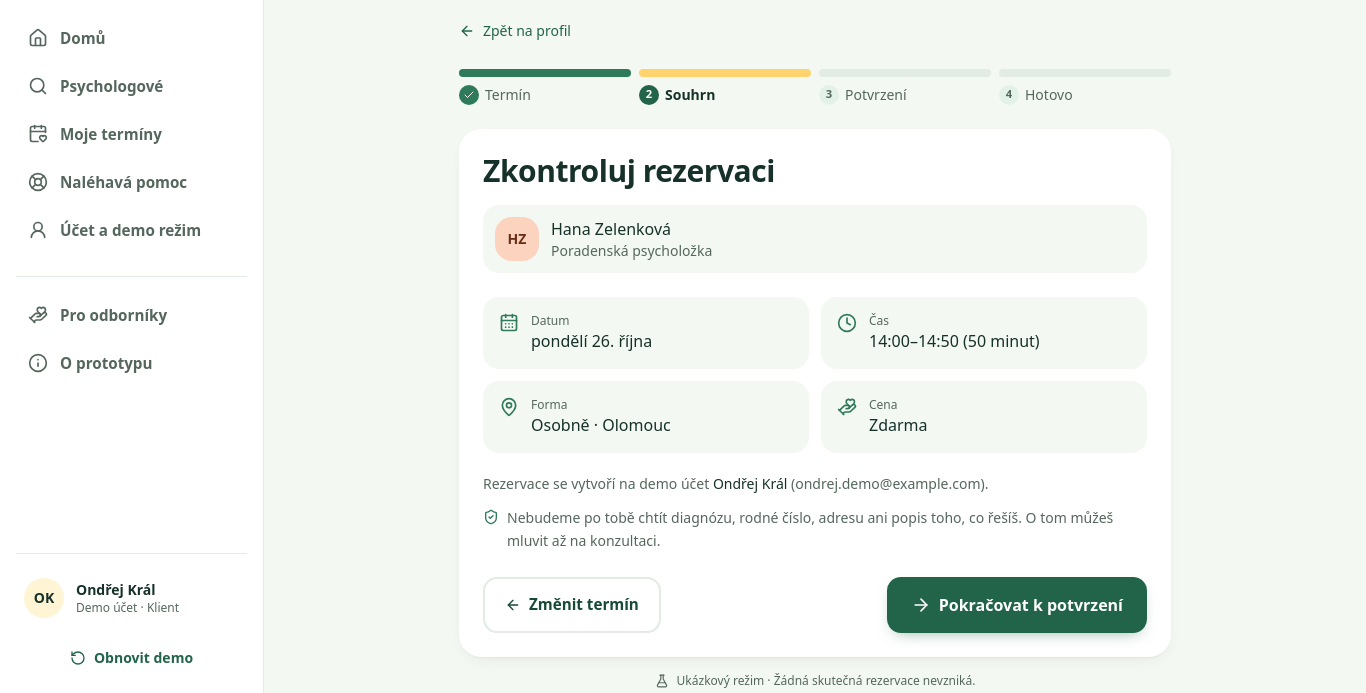
Scenario: průchody aplikací › klient projde rezervací až k potvrzovací stránce
Expected: the heading "Zkontroluj rezervaci" is shown, [483,150,775,191]
Expected: the text "Nebudeme po tobě chtít diagnózu" is shown, [507,508,1113,550]
Click the button "Pokračovat k potvrzení" at (1017, 605), box [887,577,1147,633]
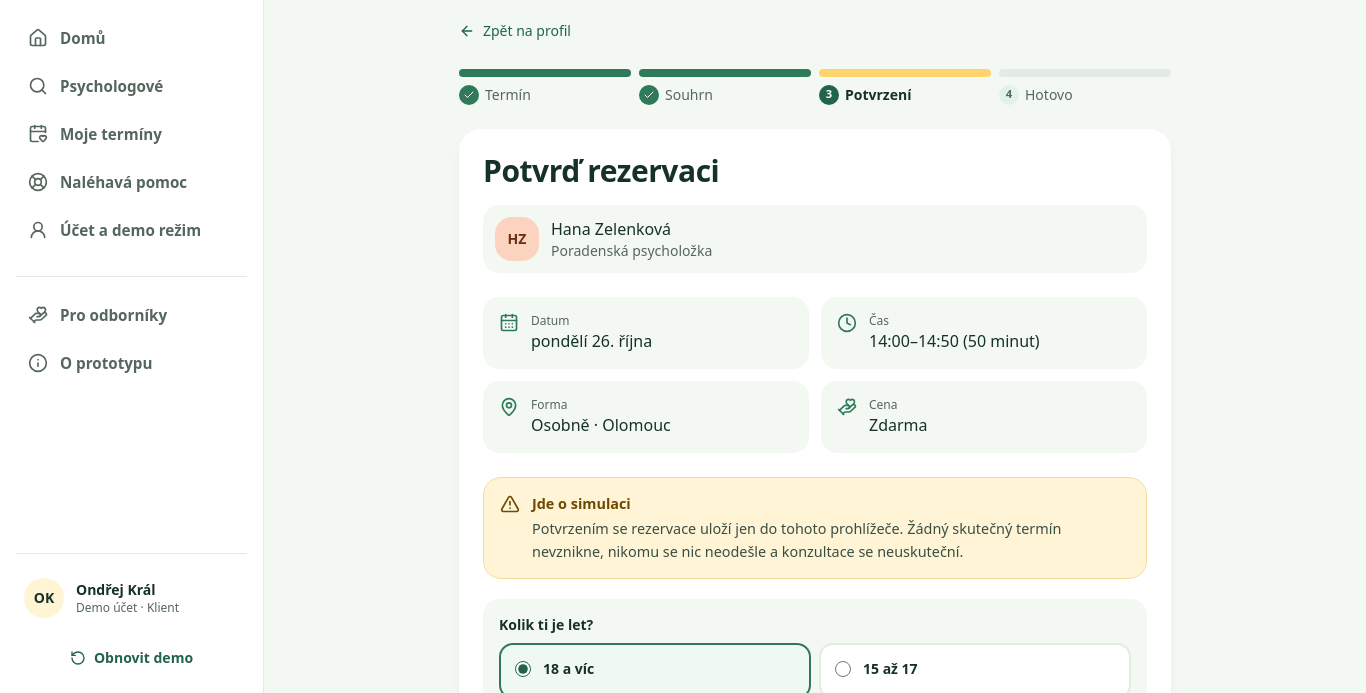
Result: the text "Jde o simulaci" is shown at [532,494,631,513]
Click the radio button labelled "18 a víc" at (523, 669), box [515,661,531,677]
(page scrolled)
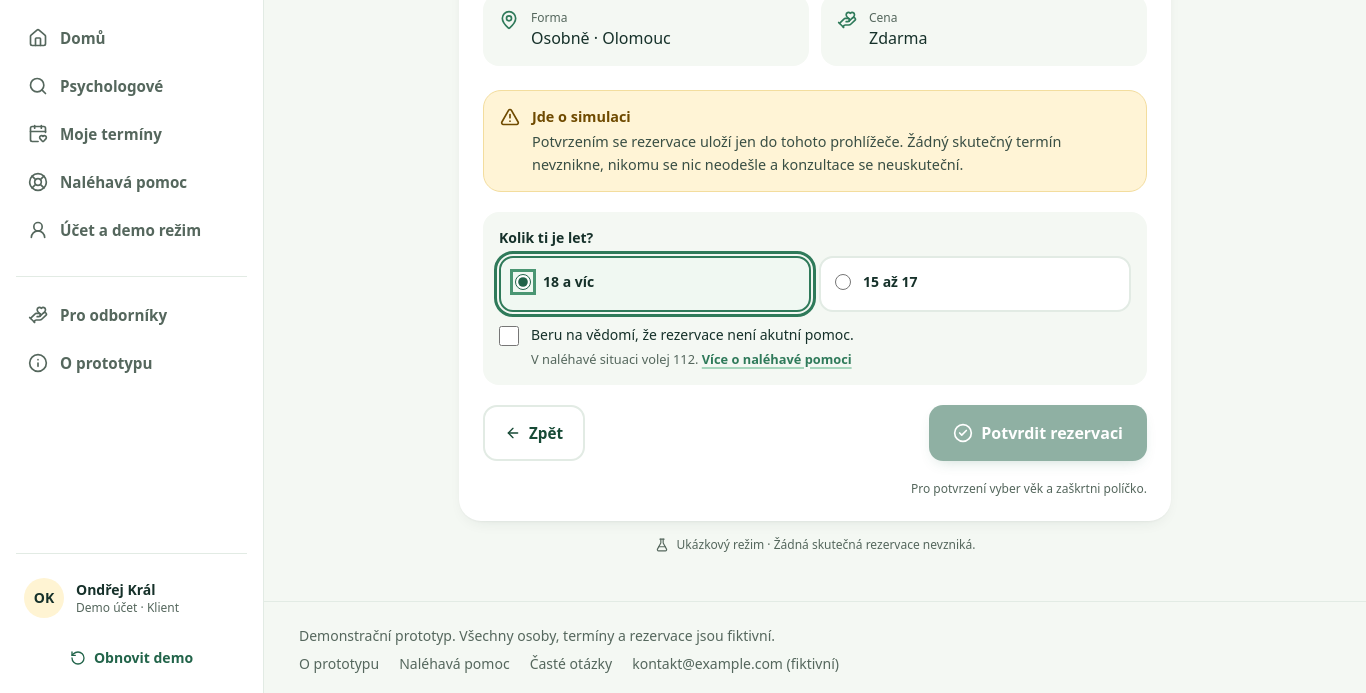
Click the checkbox labelled "Beru na vědomí, že rezervace není akutní pomoc." at (509, 336), box [499,326,519,346]
(page scrolled)
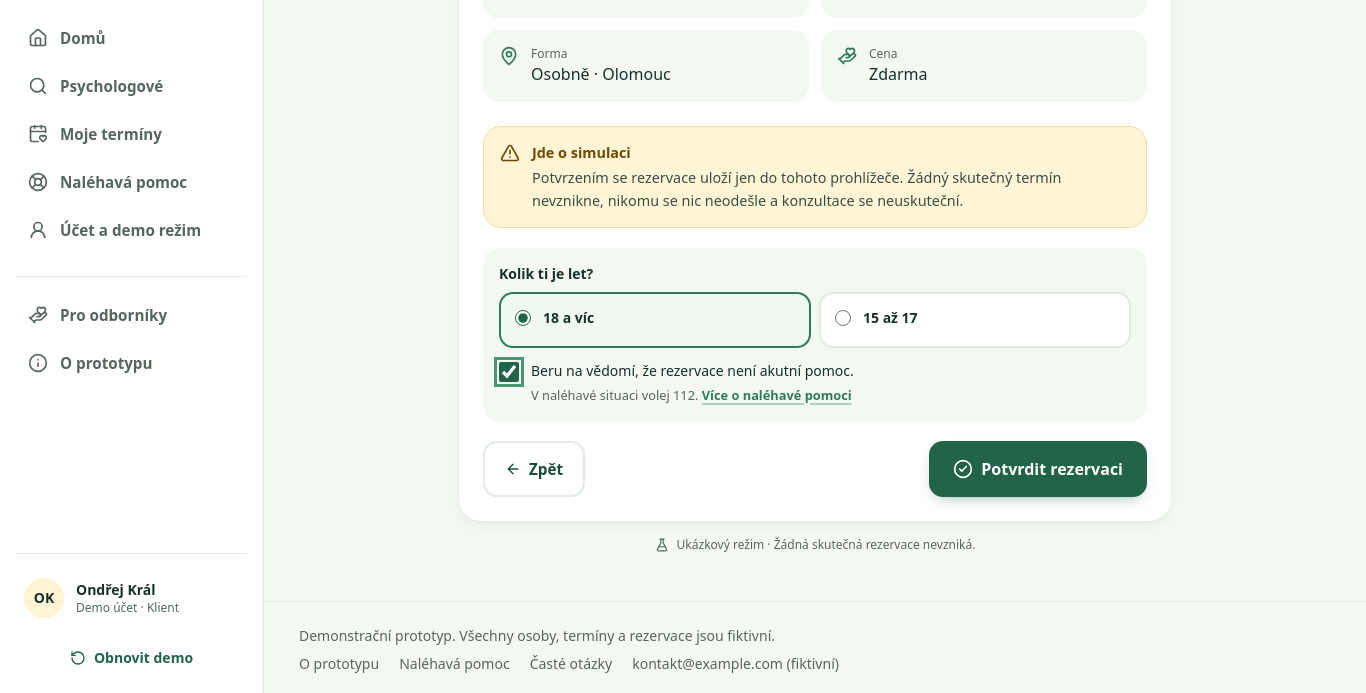
Double-click the button "Potvrdit rezervaci" at (1038, 469), box [929,441,1147,497]
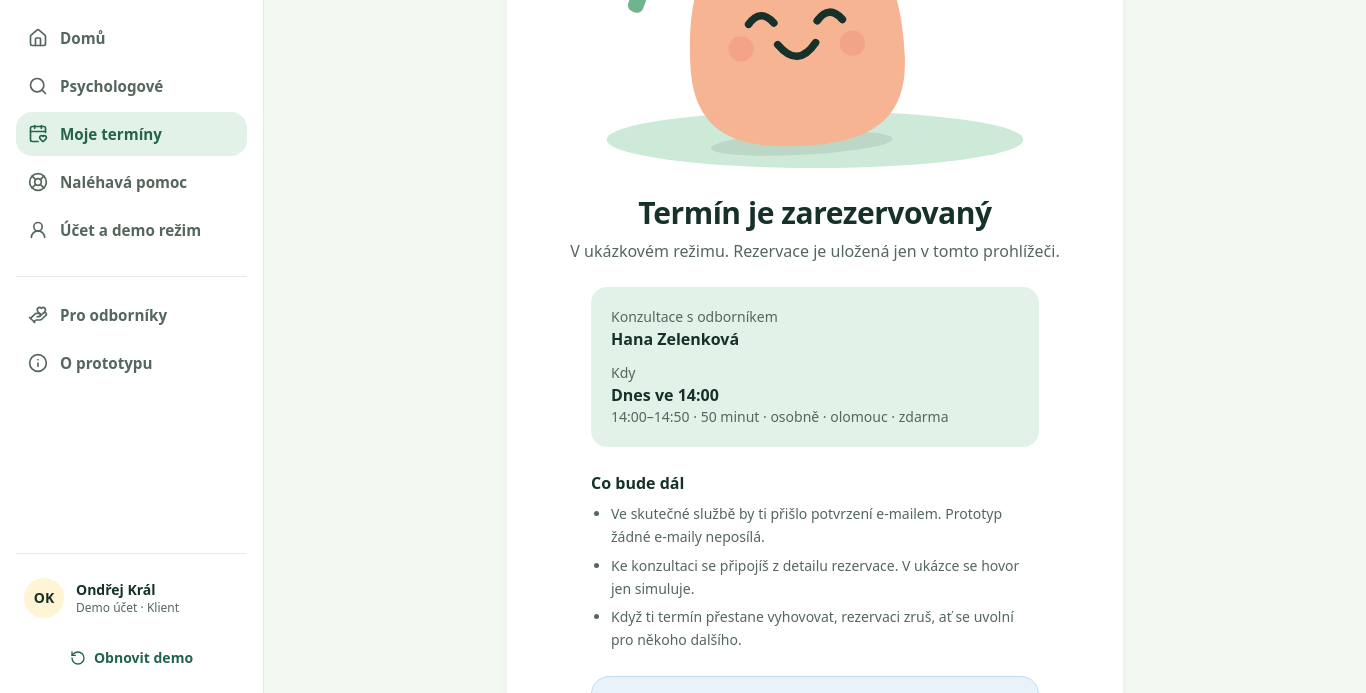
Result: the heading "Termín je zarezervovaný" is shown at [638,192,992,233]
